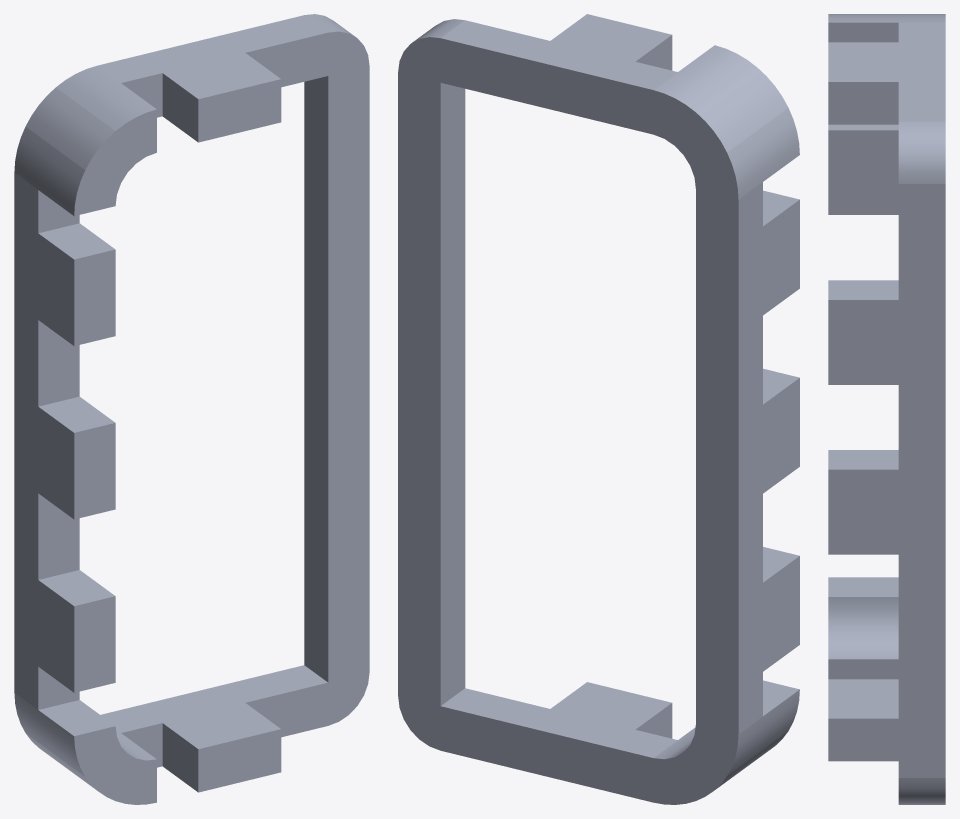
The model's file is Blade.glb.
3 renders of one model, left to right at view 1: azimuth 30°, elevation 25°; view 2: azimuth 150°, elevation 25°; view 3: azimuth 270°, elevation 25°, orthographic. The views are drawn at different scales.
Visible parts, largest first — view 1: generated(Clone); view 2: generated(Clone); view 3: generated(Clone).
Part boxes in pixels (x1,y1,x2,y2): generated(Clone): [14, 14, 369, 804]; generated(Clone): [398, 14, 799, 804]; generated(Clone): [828, 14, 945, 804].
Size of the model in its own units: 8 by 16 by 2.5.
1 material, 1 textured.
